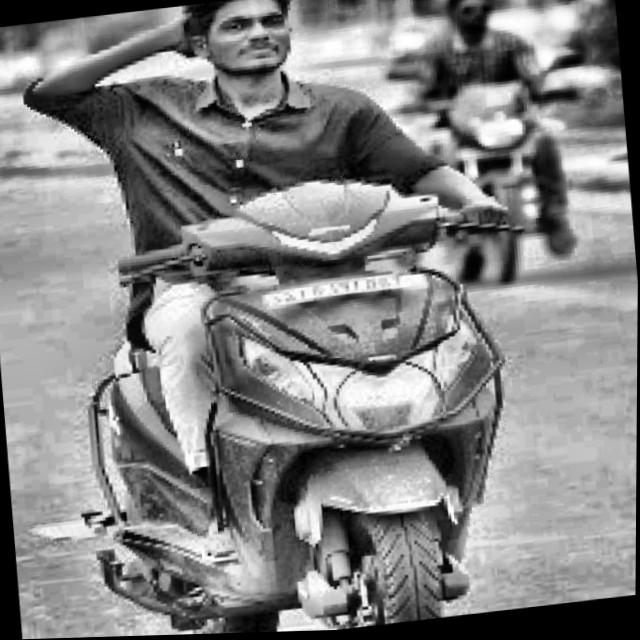motorcycle: (23, 142, 564, 639)
